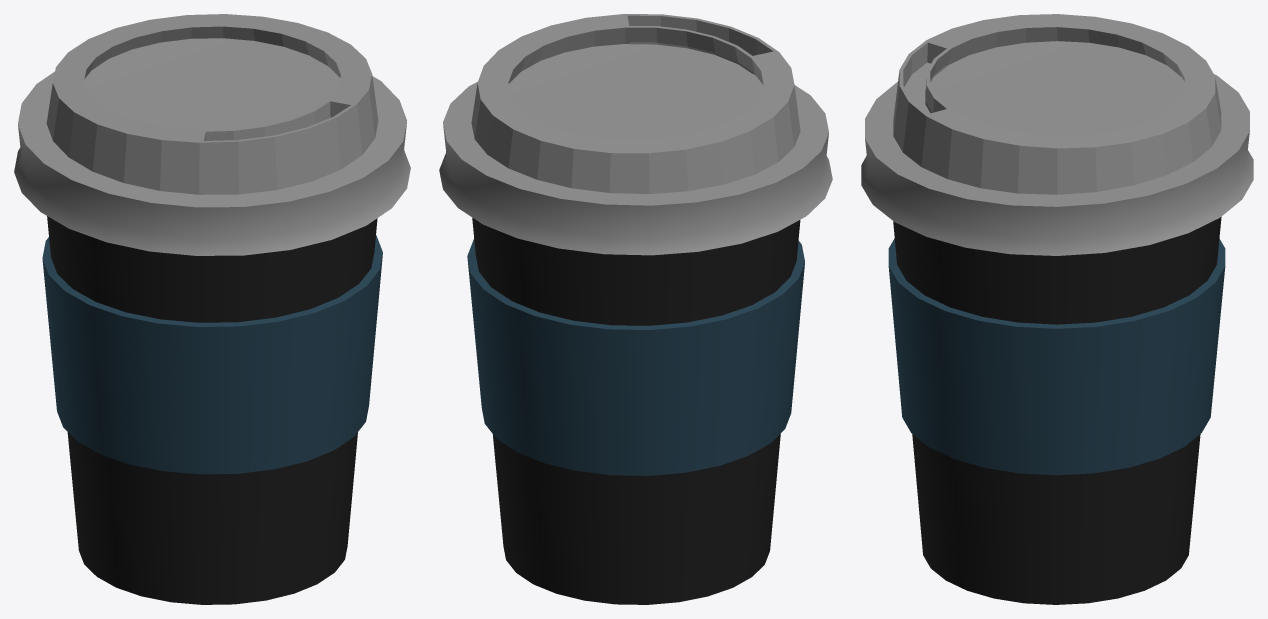
The model's file is Coffee.FBX.
3 views of the same model, side by side, from view 1: azimuth 30°, elevation 25°; view 2: azimuth 150°, elevation 25°; view 3: azimuth 270°, elevation 25° (orthographic).
Visible parts, largest first — view 1: Cylinder014; view 2: Cylinder014; view 3: Cylinder014.
Part boxes in pixels (left/top/right/bottom): Cylinder014: left=14, top=14, right=410, bottom=604; Cylinder014: left=439, top=14, right=832, bottom=604; Cylinder014: left=861, top=14, right=1253, bottom=604.
Size of the model in its own units: 465 by 611 by 462.
